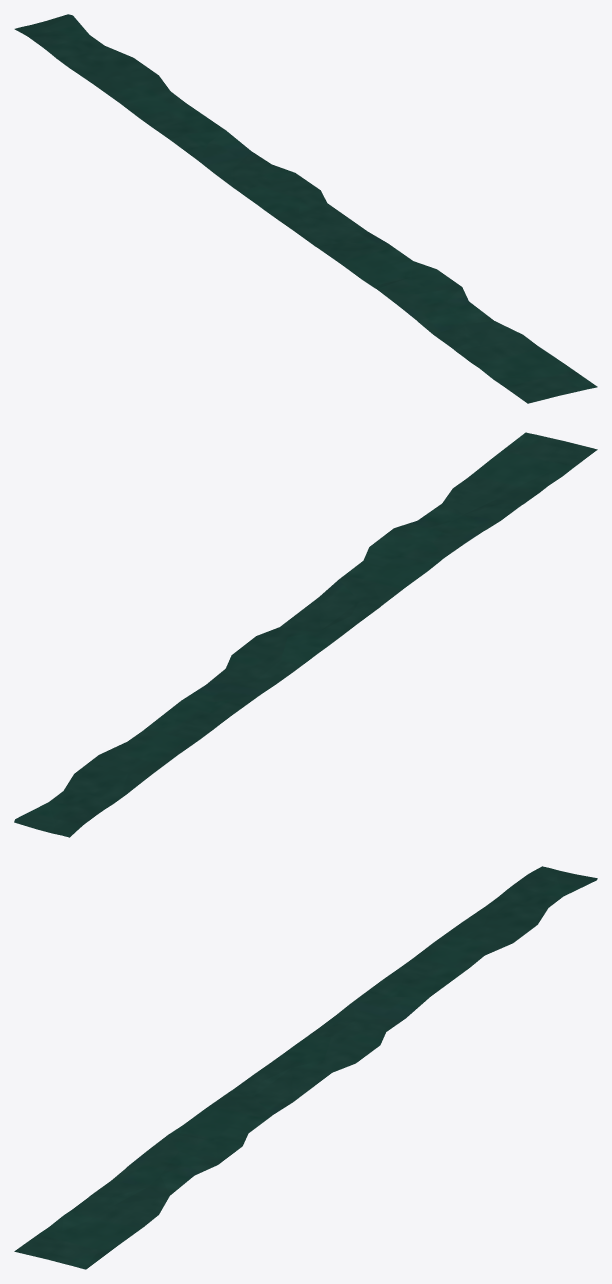
The picture shows the model from 3 angles, top to bottom: view 1: azimuth 30°, elevation 25°; view 2: azimuth 150°, elevation 25°; view 3: azimuth 330°, elevation 25°; orthographic projection. The views are drawn at different scales.
Size of the model in its own units: 8.23 by 0.6316 by 104.
1 material, 1 textured.
